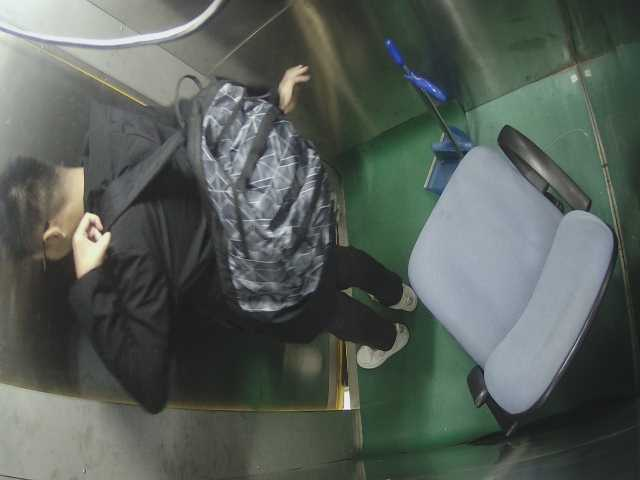bag: (178, 66, 340, 316)
broom: (376, 37, 480, 187)
chair: (402, 113, 620, 441)
person: (4, 87, 410, 376)
